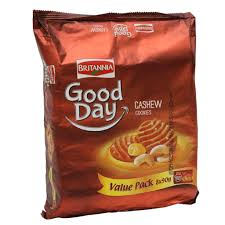gooday-large: (33, 10, 201, 207)
